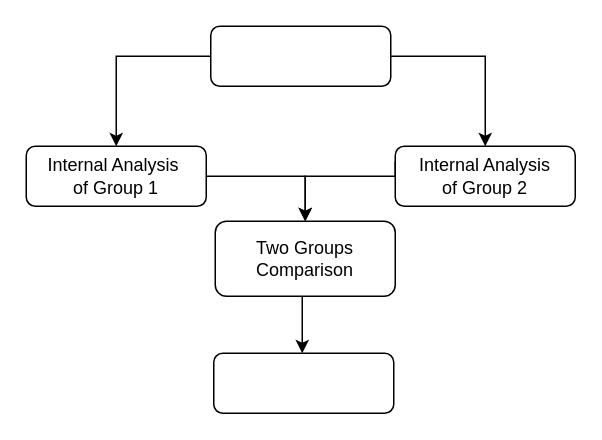
Image size: 602x440. Some labels were removed from this diagram. The centre of each missing label's shape, as x and y in pixels:
"Best Model" belongs at point (300, 55).
"Finish" belongs at point (303, 382).
